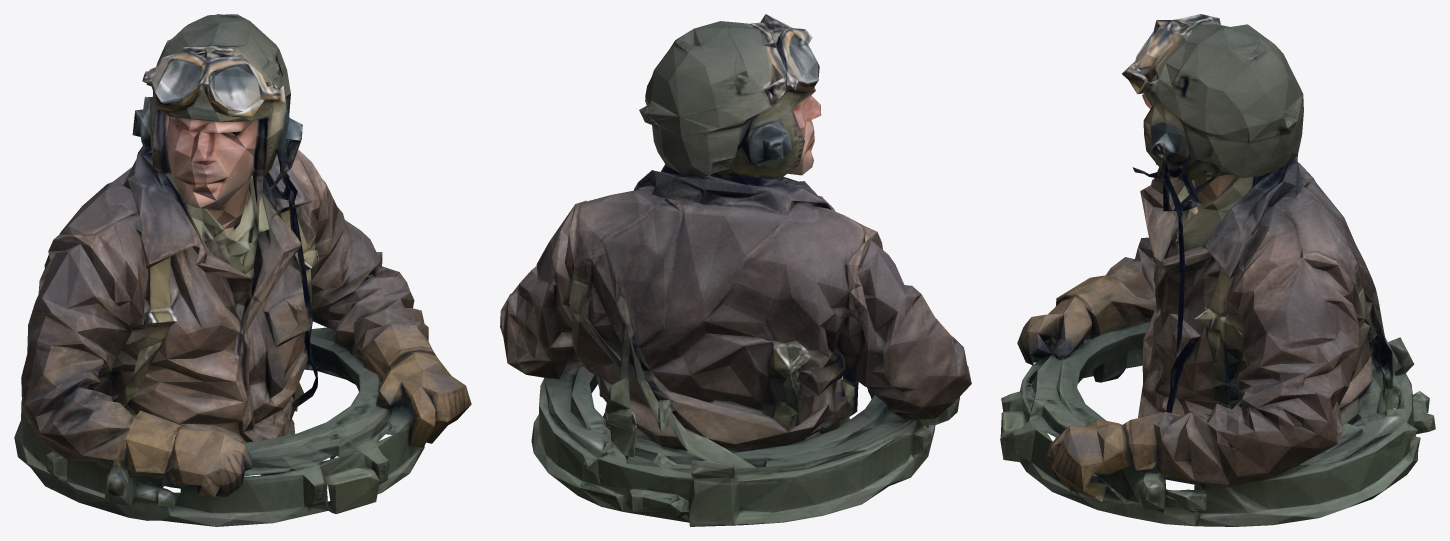
The model's file is commander.obj.
The picture shows the model from 3 angles, left to right: view 1: azimuth 30°, elevation 25°; view 2: azimuth 150°, elevation 25°; view 3: azimuth 270°, elevation 25°; orthographic projection.
Visible parts, largest first — view 1: commander; view 2: commander; view 3: commander.
Boxes of the visible parts, <box> form: commander: <box>14,14,471,526</box>; commander: <box>500,14,971,526</box>; commander: <box>1000,14,1435,526</box>.
Bounding box in the file's own units: 0.9752 × 0.95 × 0.8934.
1 material, 1 textured.
